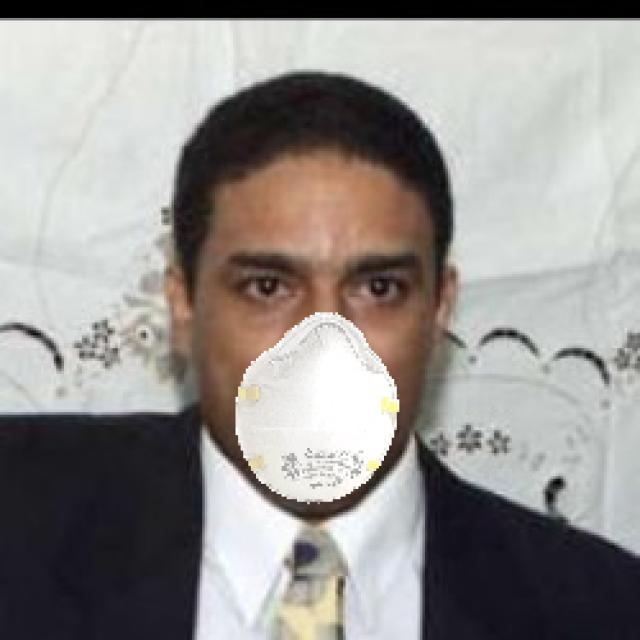n95: (176, 139, 447, 504)
